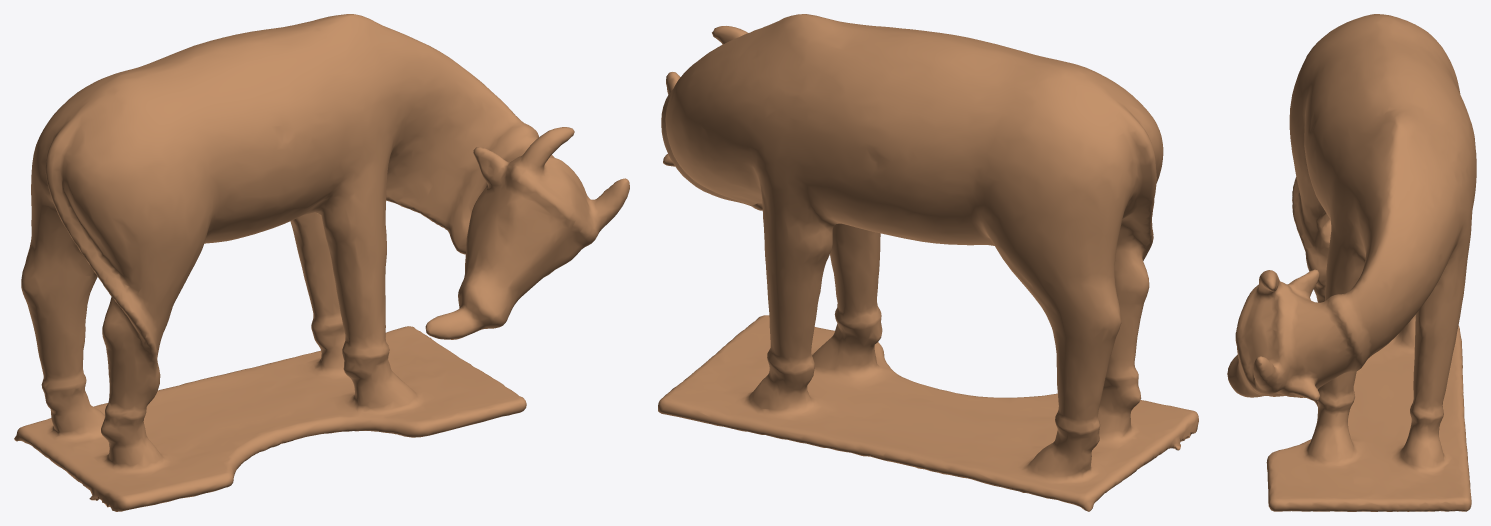
File: Vaahanangal_Pasu_03.glb
The picture shows the model from 3 angles, left to right: view 1: azimuth 30°, elevation 25°; view 2: azimuth 150°, elevation 25°; view 3: azimuth 270°, elevation 25°; orthographic projection. The views are drawn at different scales.
Parts seen in each view (by area): view 1: Vaahanangal_Pasu_03; view 2: Vaahanangal_Pasu_03; view 3: Vaahanangal_Pasu_03.
Part boxes in pixels (bbox=[...]): Vaahanangal_Pasu_03: bbox=[14, 14, 629, 511]; Vaahanangal_Pasu_03: bbox=[658, 14, 1198, 511]; Vaahanangal_Pasu_03: bbox=[1227, 14, 1476, 511].
Size of the model in its own units: 0.769 by 0.5321 by 0.3452.
